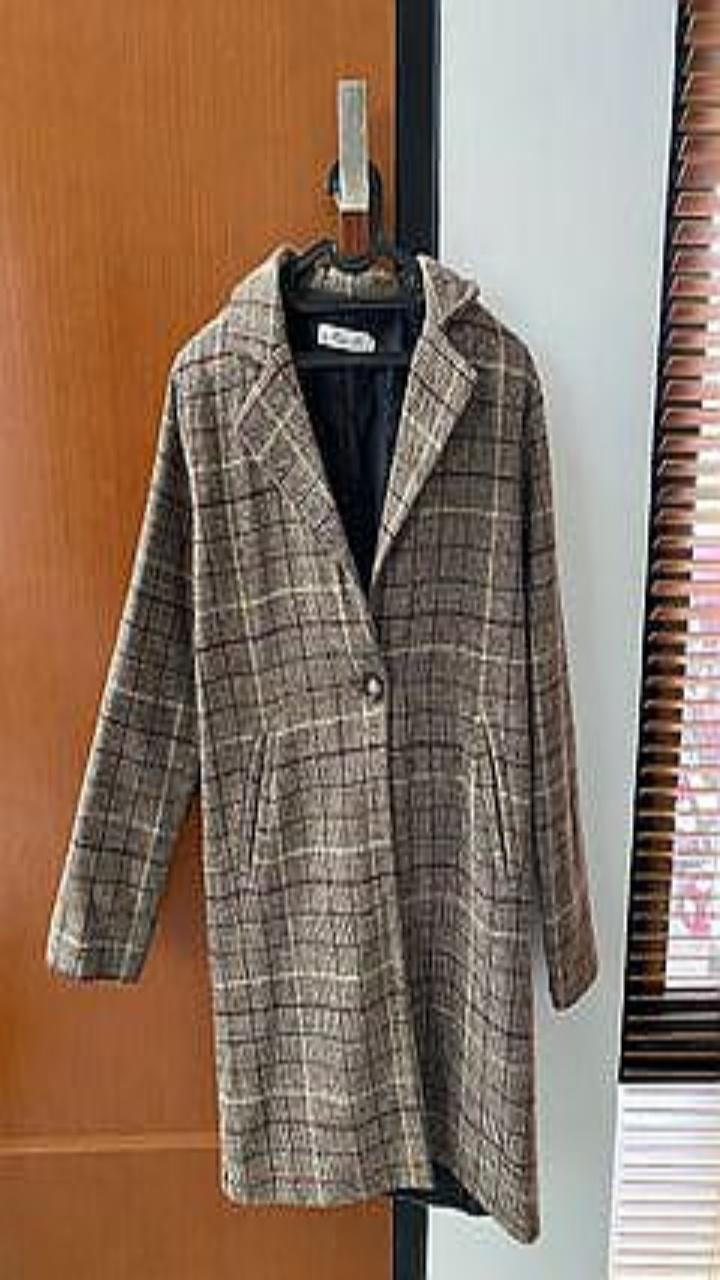Coat: (46, 244, 597, 1241)
